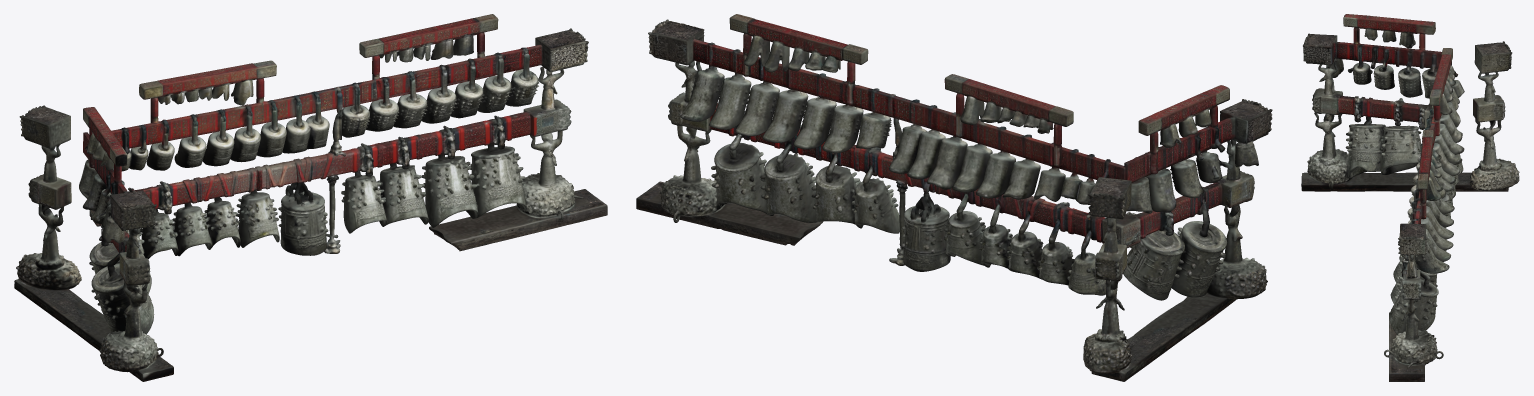
Rendered from carillon-693c26613f07.gltf.
The picture shows the model from 3 angles, left to right: view 1: azimuth 30°, elevation 25°; view 2: azimuth 150°, elevation 25°; view 3: azimuth 270°, elevation 25°; orthographic projection. The views are drawn at different scales.
Parts seen in each view (by area): view 1: static-frame, bell-lower-10, bell-lower-07, bell-lower-11, bell-lower-12, bell-lower-08, bell-lower-09, bell-lower-06, bell-lower-04, bell-lower-05, bell-lower-03, bell-middle-21 (+15 smaller); view 2: static-frame, bell-lower-10, bell-lower-01, bell-lower-07, bell-lower-12, bell-lower-11, bell-lower-08, bell-lower-09, bell-lower-06, bell-middle-18, bell-middle-21, bell-middle-19 (+22 smaller); view 3: static-frame, bell-lower-12, bell-lower-01, bell-lower-11, bell-middle-21, bell-middle-04, bell-middle-05, bell-middle-03, bell-middle-02, bell-middle-18, bell-middle-19, bell-middle-13 (+9 smaller).
Boxes of the visible parts, x1,y1,x2,y2 form: static-frame: (14, 14, 607, 381); bell-lower-10: (421, 153, 485, 227); bell-lower-07: (278, 178, 328, 255); bell-lower-11: (470, 143, 526, 212); bell-lower-12: (91, 262, 154, 334); bell-lower-08: (341, 170, 393, 233); bell-lower-09: (378, 163, 428, 224); bell-lower-06: (236, 190, 279, 247); bell-lower-04: (172, 202, 211, 256); bell-lower-05: (204, 197, 240, 249); bell-lower-03: (140, 209, 178, 259); bell-middle-21: (505, 69, 544, 109); static-frame: (636, 14, 1272, 381); bell-lower-10: (754, 153, 817, 222); bell-lower-01: (1123, 230, 1186, 300); bell-lower-07: (901, 186, 950, 271); bell-lower-12: (1176, 220, 1227, 297); bell-lower-11: (711, 141, 766, 209); bell-lower-08: (846, 177, 899, 233); bell-lower-09: (811, 165, 860, 222); bell-lower-06: (944, 207, 985, 265); bell-middle-18: (762, 89, 808, 142); bell-middle-21: (680, 62, 724, 121); bell-middle-19: (735, 81, 779, 136); static-frame: (1301, 14, 1519, 381); bell-lower-12: (1345, 116, 1385, 178); bell-lower-01: (1379, 125, 1421, 174); bell-lower-11: (1389, 275, 1438, 335); bell-middle-21: (1414, 242, 1449, 273); bell-middle-04: (1473, 72, 1503, 106); bell-middle-05: (1398, 70, 1422, 97); bell-middle-03: (1373, 66, 1394, 89); bell-middle-02: (1348, 62, 1372, 84); bell-middle-18: (1407, 206, 1453, 239); bell-middle-19: (1407, 217, 1453, 250); bell-middle-13: (1420, 143, 1460, 176).
Bounding box in the file's own units: 0.9811 × 0.3629 × 0.4272.
1 material, 1 textured.
